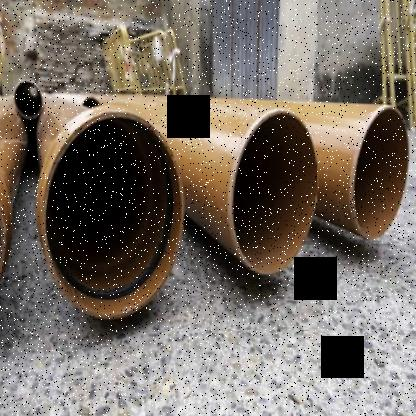pipe: (42, 111, 185, 319), (233, 110, 318, 275), (352, 107, 409, 239)
